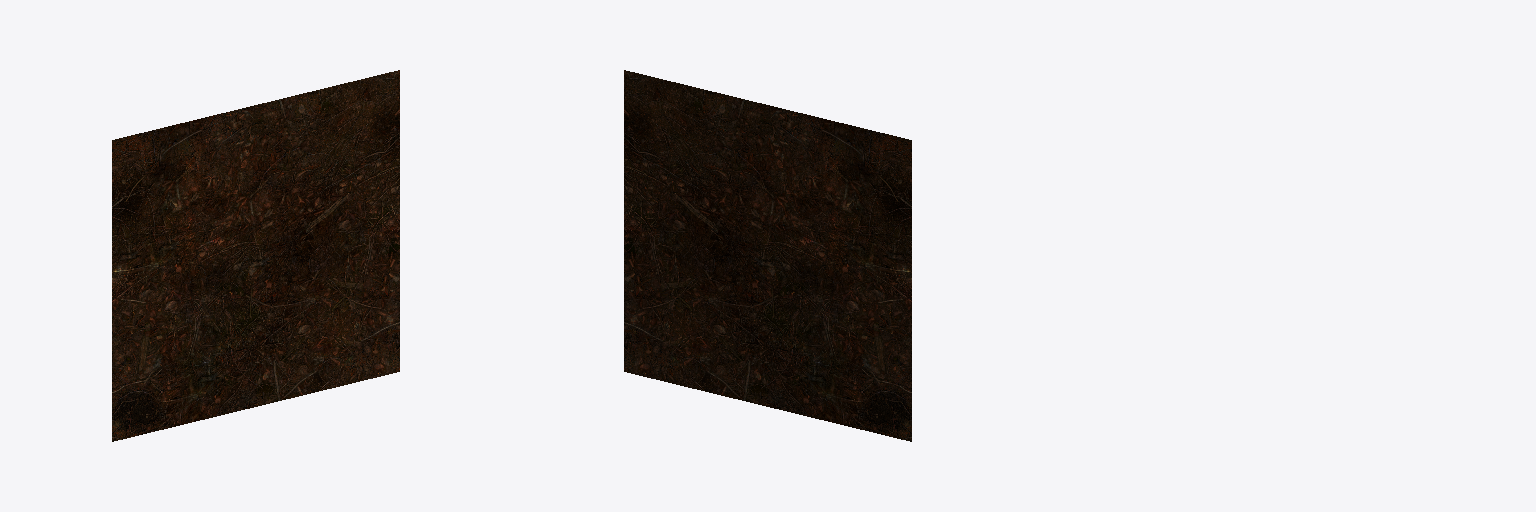
3 views of the same model, side by side, from view 1: azimuth 30°, elevation 25°; view 2: azimuth 150°, elevation 25°; view 3: azimuth 270°, elevation 25° (orthographic).
Parts seen in each view (by area): view 1: ground.110; view 2: ground.110; view 3: none.
Boxes of the visible parts, x1,y1,x2,y2 form: ground.110: [112, 70, 399, 441]; ground.110: [624, 70, 911, 441].
Bounding box in the file's own units: 1 × 1 × 0.
1 materials, 1 textured.